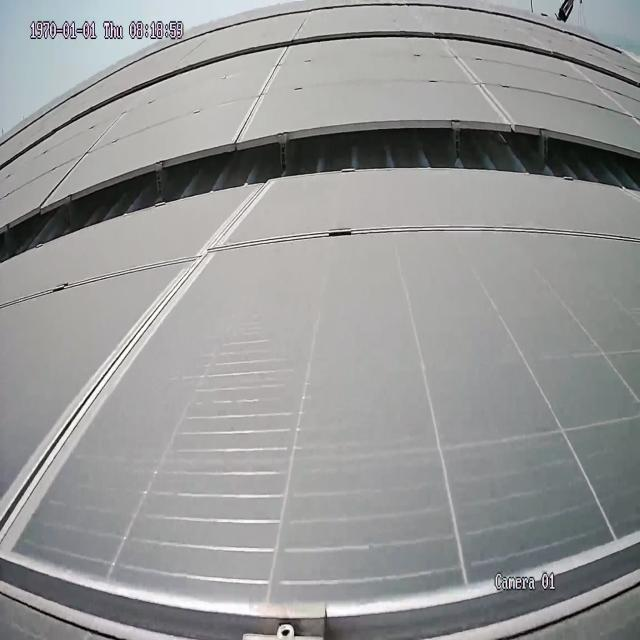interior panel: (5, 186, 593, 545), (3, 525, 634, 640), (444, 48, 511, 114), (241, 61, 283, 133)
outher panel: (0, 124, 640, 267)
